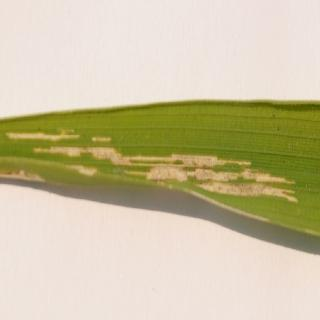Hawar-Daun: (30, 138, 300, 210), (0, 160, 47, 188), (5, 126, 81, 143), (92, 131, 112, 145)
